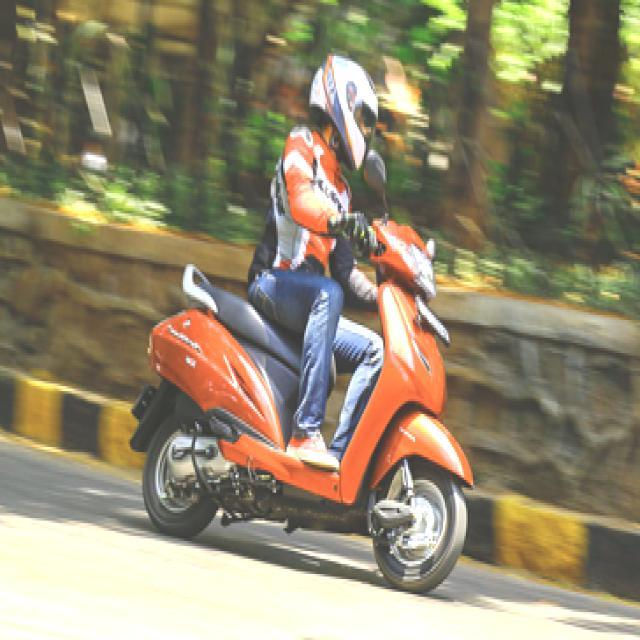Helmet: (296, 51, 396, 170)
